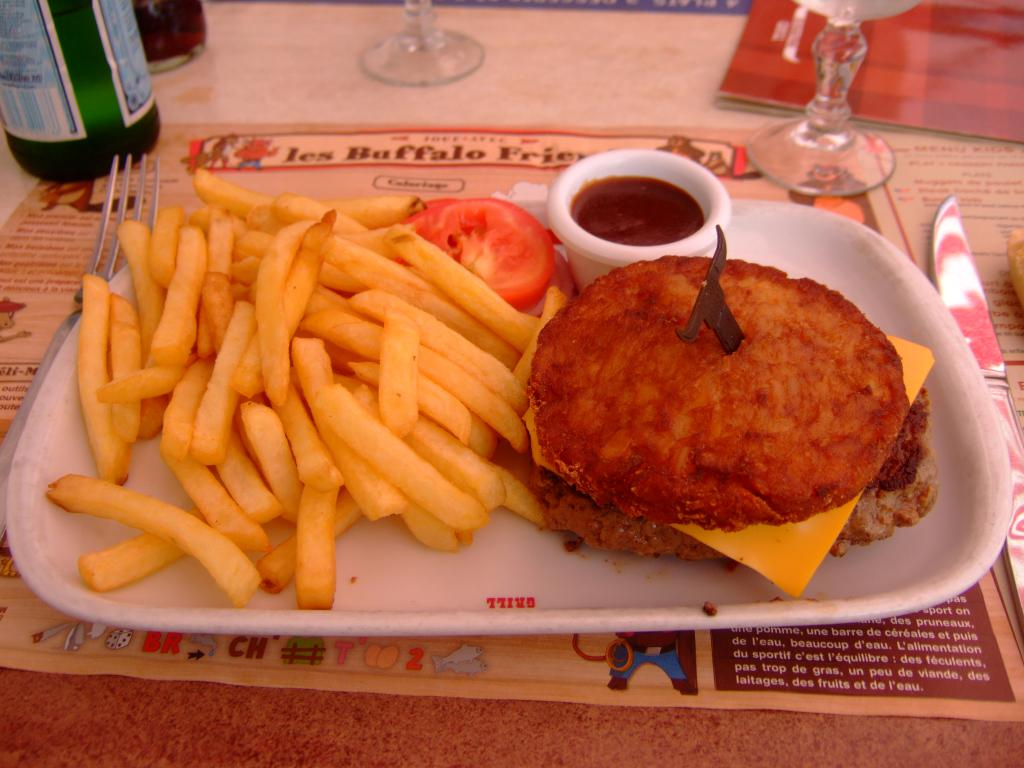French fries: (30, 157, 570, 614)
